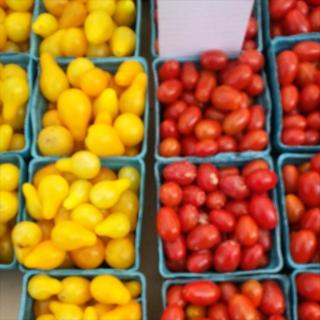Tomato: (0, 0, 320, 320), (260, 280, 286, 320)
